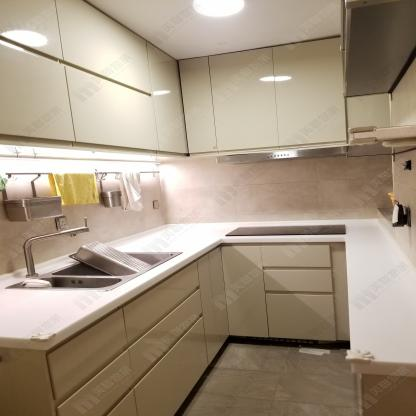Cupboard: (0, 1, 359, 154), (42, 242, 350, 415), (177, 36, 347, 156)
Exhaust Hood: (217, 145, 351, 165), (215, 145, 348, 165)
Faucet: (17, 221, 91, 273)
Sink: (2, 252, 185, 296), (7, 251, 178, 288)
Stove: (218, 221, 356, 238), (226, 224, 347, 236)
